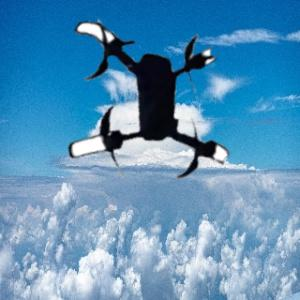drone: (36, 2, 241, 207)
